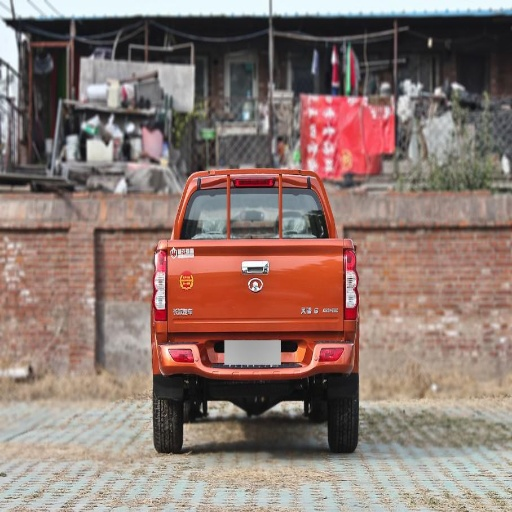back_bumper: (153, 332, 355, 380)
trunk: (171, 240, 346, 339)
